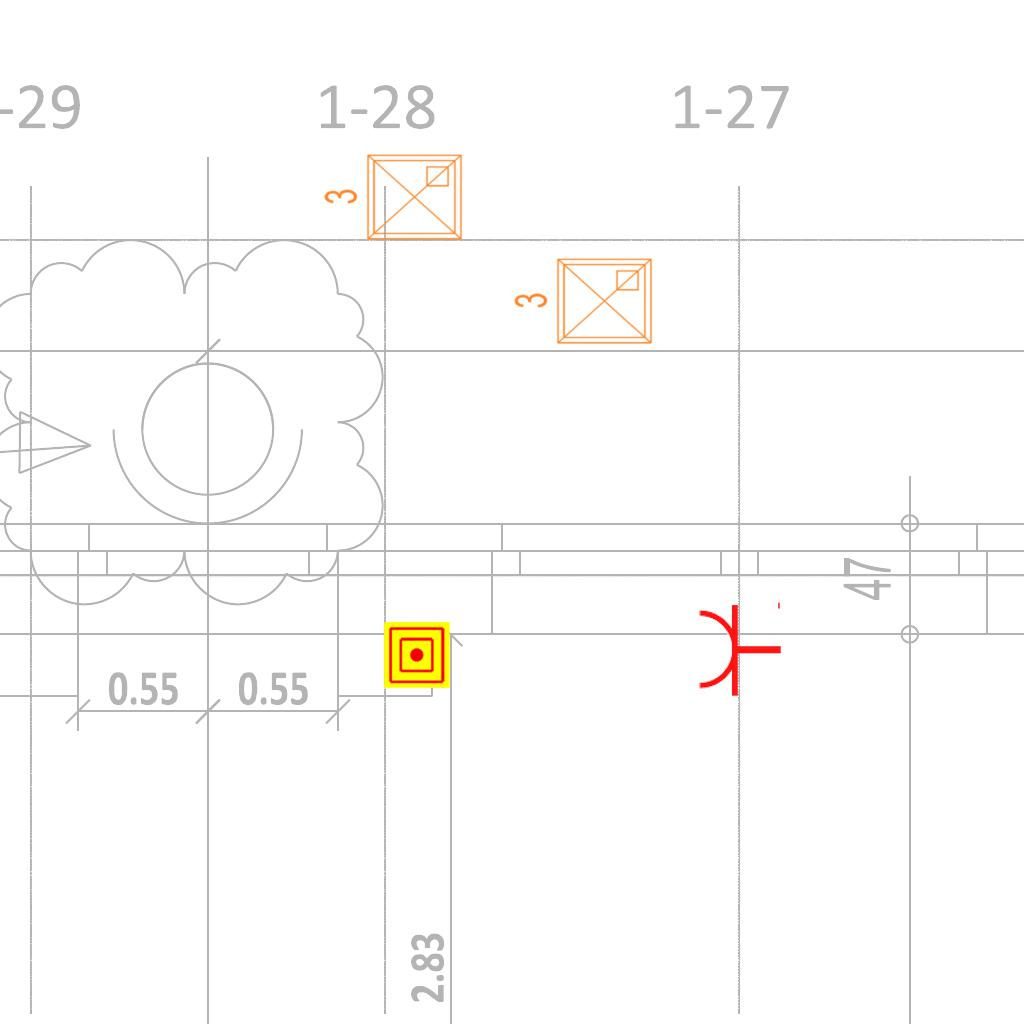Einbaudownlights_LED_Konferenzraeume: (319, 147, 469, 251), (509, 251, 659, 355)
NAM-Nichtautomatischer_Melder: (384, 622, 450, 688)
Schukosteckdose_einfach: (696, 598, 783, 698)
